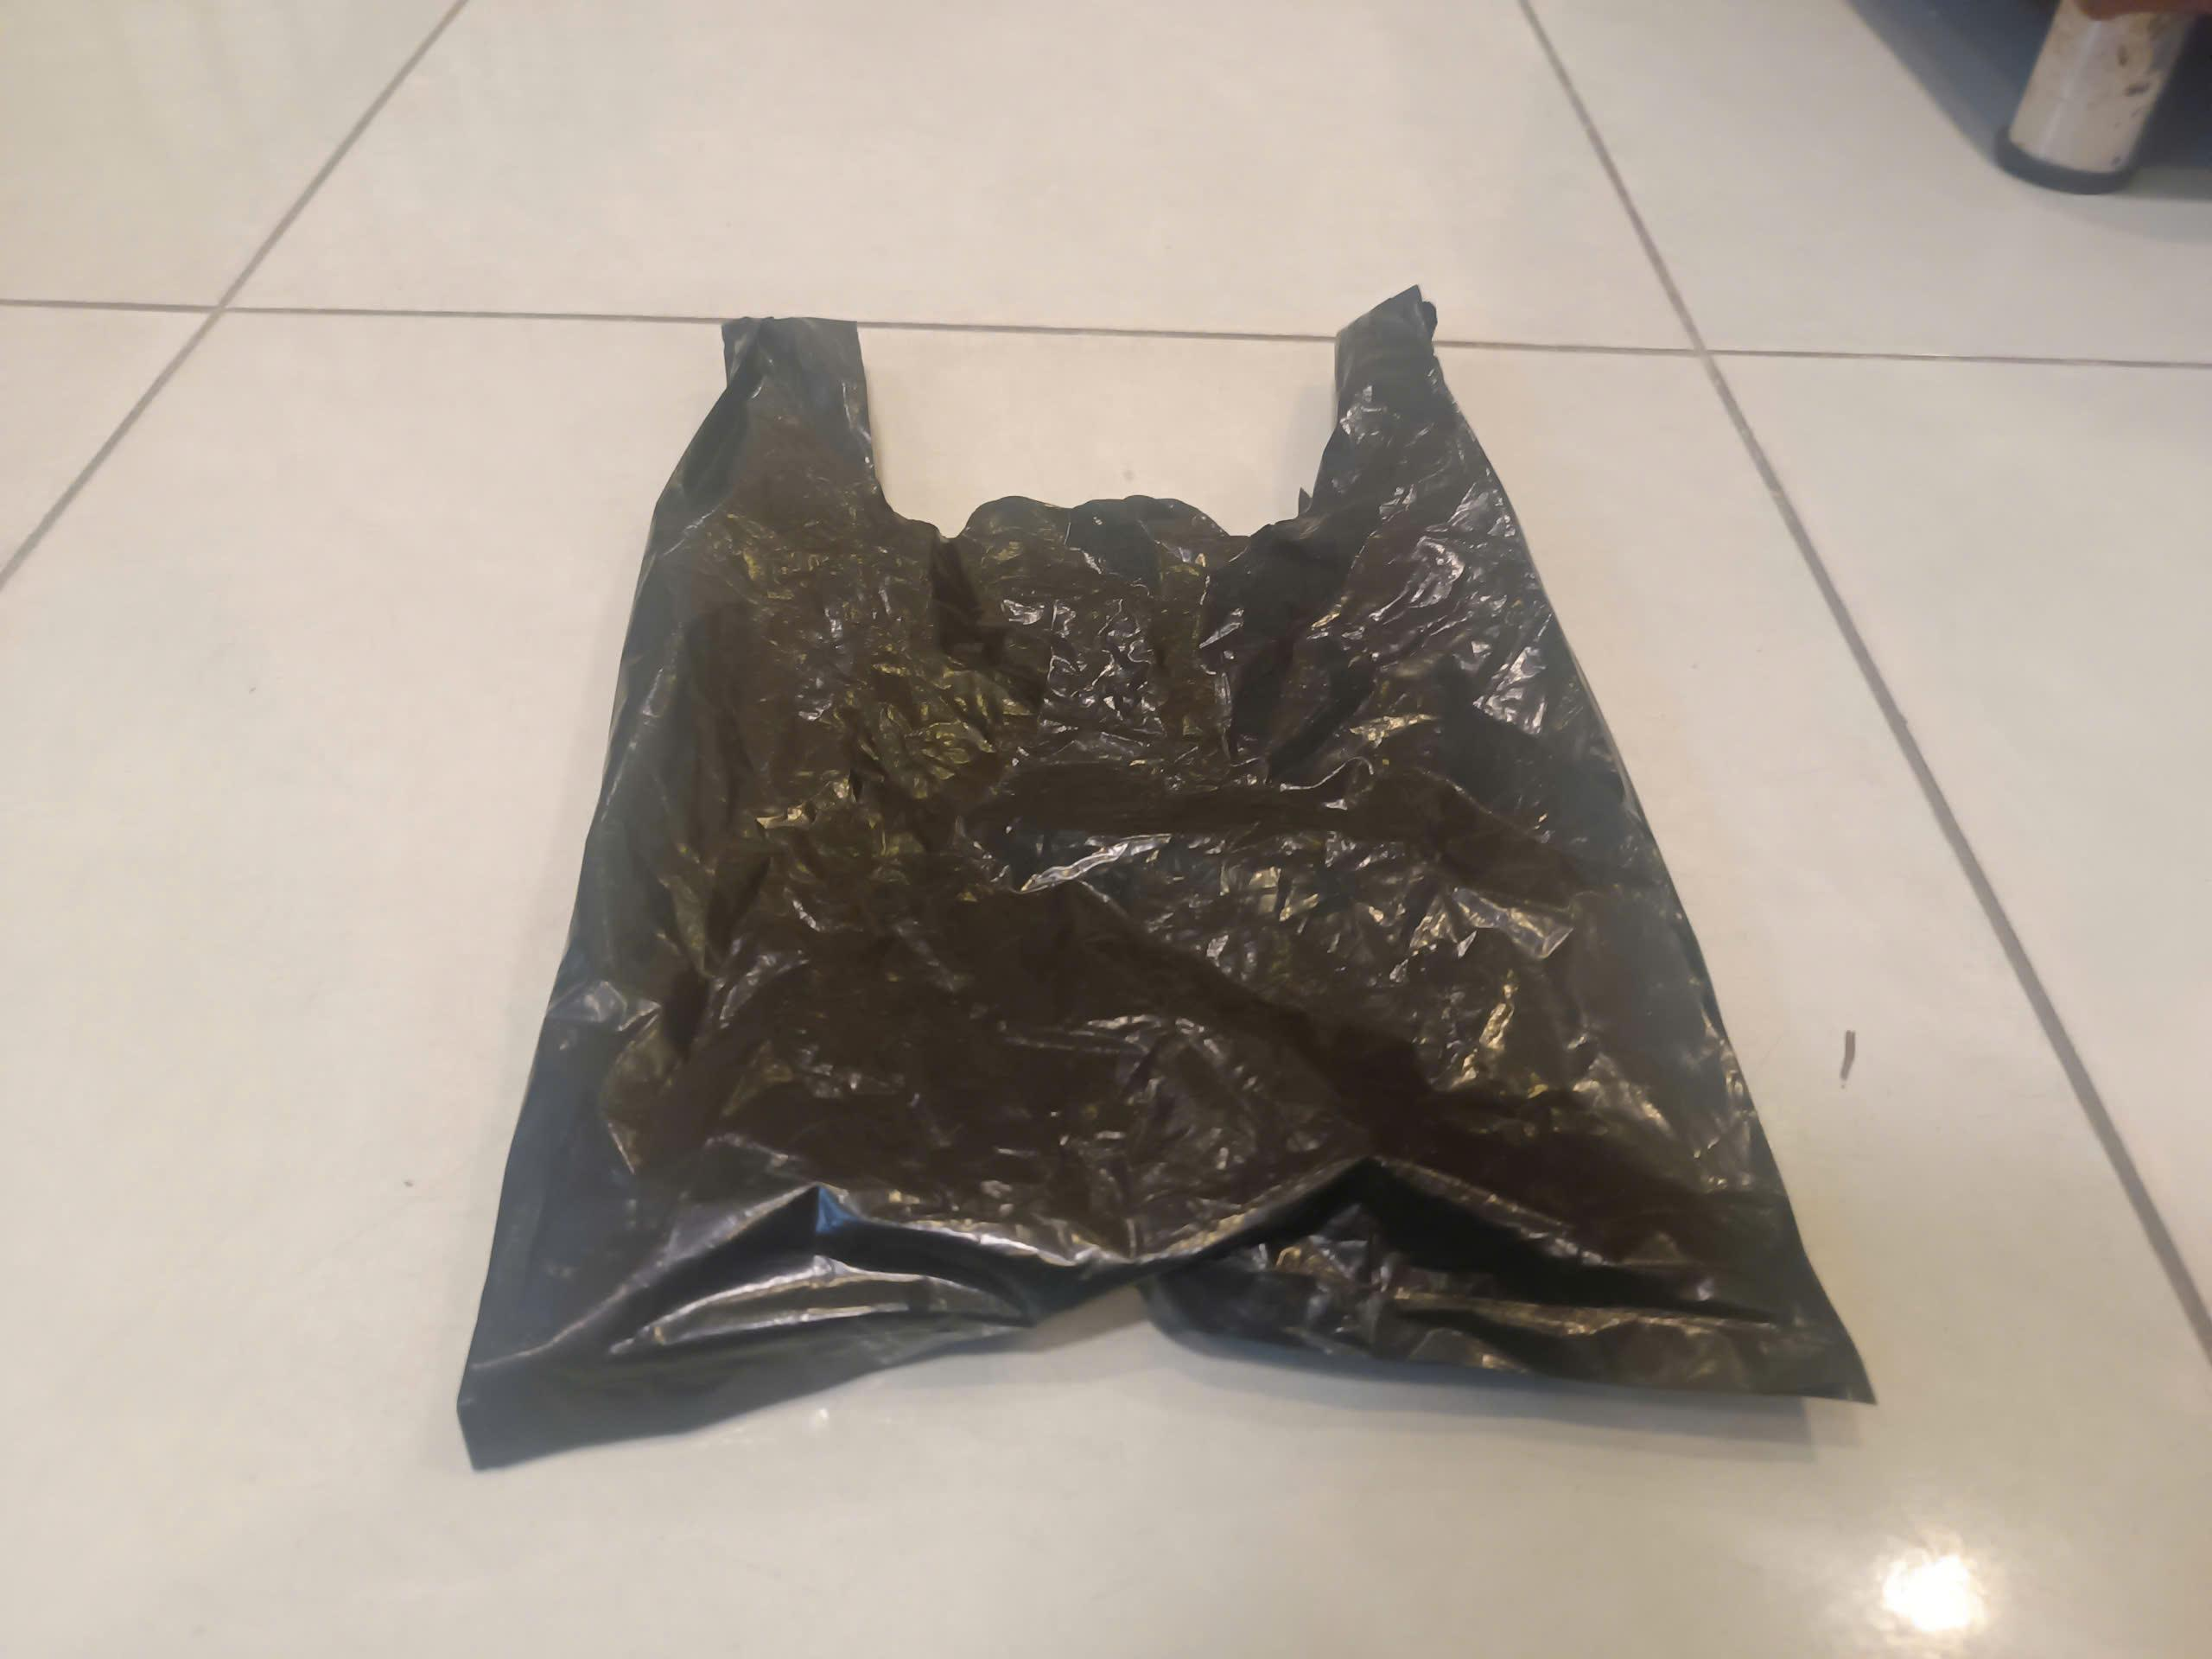Vo co: (461, 289, 1873, 1480)
